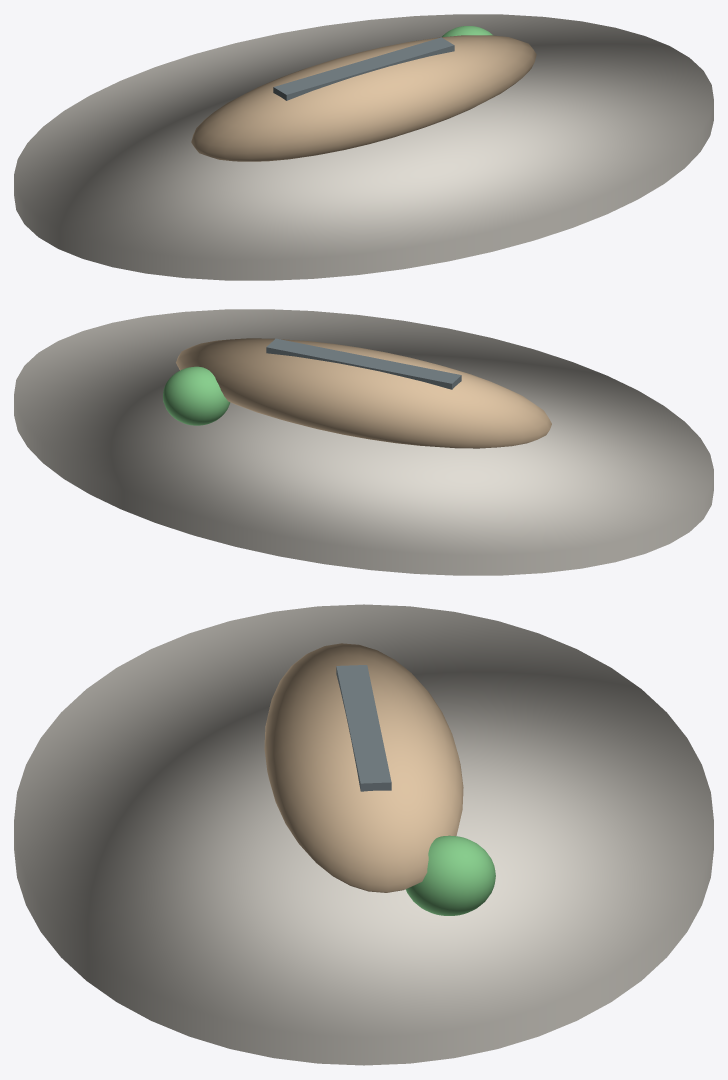
Rendered from grilled_fish.glb.
3 renders of one model, top to bottom at view 1: azimuth 30°, elevation 25°; view 2: azimuth 150°, elevation 25°; view 3: azimuth 270°, elevation 25°, orthographic. The views are drawn at different scales.
Bounding box in the file's own units: 2.64 × 0.355 × 1.8.
